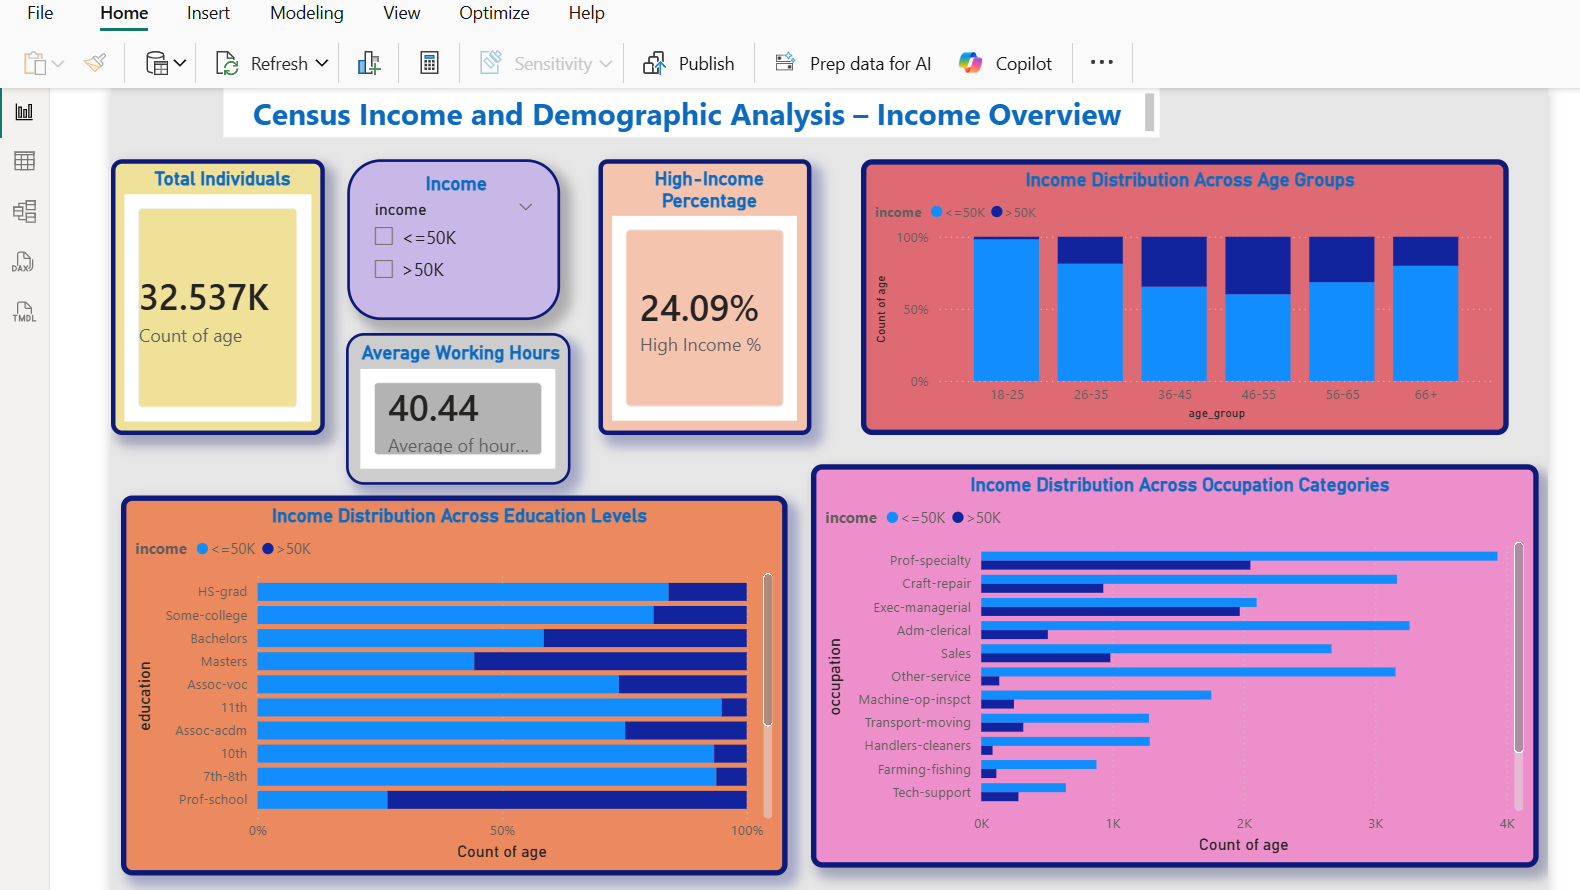

What the dashboard file says about the page in this screenshot:
{"tool":"powerbi","page":{"name":"Income Overview","canvas":[1280,720],"ordinal":0},"visuals":[{"type":"slicer","title":"Income","fields":{"Values":["Census_Income_Cleaned.income"]},"box":[211.6,64,189.5,143],"z":0},{"type":"hundredPercentStackedColumnChart","title":"Income Distribution Across Age Groups","fields":{"Category":["Census_Income_Cleaned.age_group"],"Series":["Census_Income_Cleaned.income"],"Y":["CountNonNull(Census_Income_Cleaned.age)"]},"box":[12.8,226.7,397.7,312.8],"z":1000},{"type":"hundredPercentStackedBarChart","title":"Income Distribution Across Education Levels","fields":{"Category":["Census_Income_Cleaned.education"],"Series":["Census_Income_Cleaned.income"],"Y":["CountNonNull(Census_Income_Cleaned.age)"]},"box":[900,61.6,368.6,648.8],"z":2000},{"type":"clusteredBarChart","title":"Income Distribution Across Occupation Categories","fields":{"Category":["Census_Income_Cleaned.occupation"],"Series":["Census_Income_Cleaned.income"],"Y":["CountNonNull(Census_Income_Cleaned.age)"]},"box":[441.9,226.7,440.7,312.8],"z":3000},{"type":"textbox","box":[100,0,833.7,44.2],"z":4000},{"type":"cardVisual","title":"Total Individuals","fields":{"Data":["CountNonNull(Census_Income_Cleaned.age)"]},"box":[4.7,64,190.7,143],"z":5000},{"type":"cardVisual","title":"High-Income Percentage","fields":{"Data":["Census_Income_Cleaned.High Income %"]},"box":[422.1,65.1,217.4,143],"z":6000},{"type":"cardVisual","title":"Average Working Hours","fields":{"Data":["Avg(Census_Income_Cleaned.hours-per-week)"]},"box":[652.3,61.6,230.2,145.3],"z":7000},{"type":"textbox","title":"Key Insights","box":[34.9,550,847.7,169.8],"z":8000}]}

Visuals, with their boxes on the page's 1280x720 design canvas (x1, y1, x2, y2). These are canvas units, not pixel positions in the 1580x890 screenshot, which may show the page scaled, cropped or inside an application window:
"Income" slicer: l=212, t=64, r=401, b=207
"Income Distribution Across Age Groups" hundredPercentStackedColumnChart: l=13, t=227, r=410, b=540
"Income Distribution Across Education Levels" hundredPercentStackedBarChart: l=900, t=62, r=1269, b=710
"Income Distribution Across Occupation Categories" clusteredBarChart: l=442, t=227, r=883, b=540
textbox: l=100, t=0, r=934, b=44
"Total Individuals" cardVisual: l=5, t=64, r=195, b=207
"High-Income Percentage" cardVisual: l=422, t=65, r=640, b=208
"Average Working Hours" cardVisual: l=652, t=62, r=882, b=207
"Key Insights" textbox: l=35, t=550, r=883, b=720
